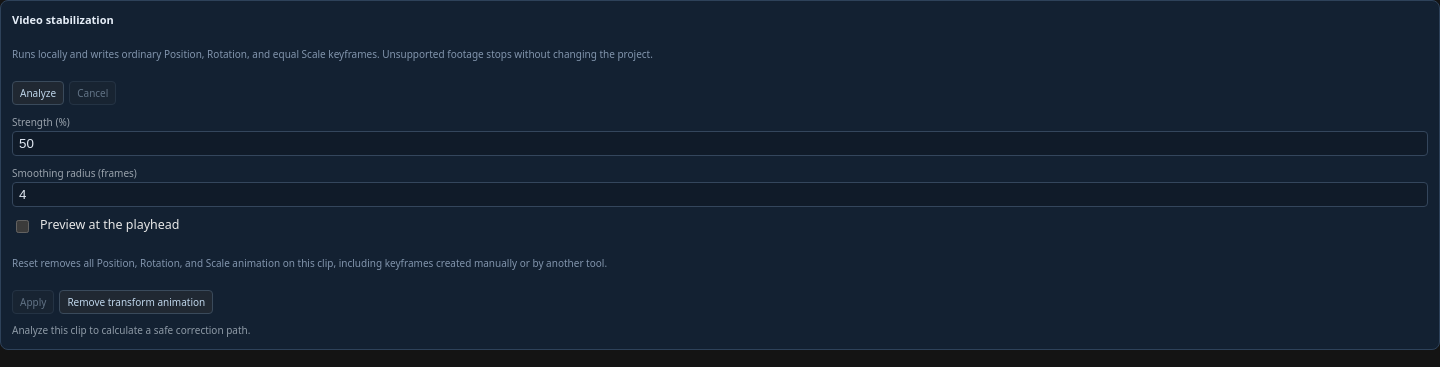
StabilizationEditor › discloses that Reset removes manual and other-tool transform animation
Click the button "Remove transform animation": (136, 302) [59,290,213,314]
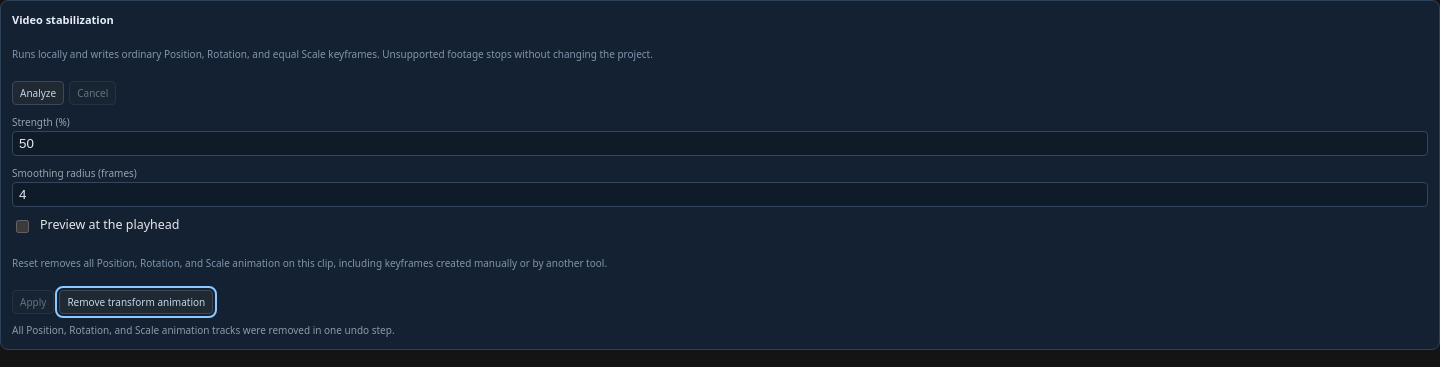
Now the message shows "All Position, Rotation, and Scale animation tracks were removed in one undo step.", box [12,323,395,337]
